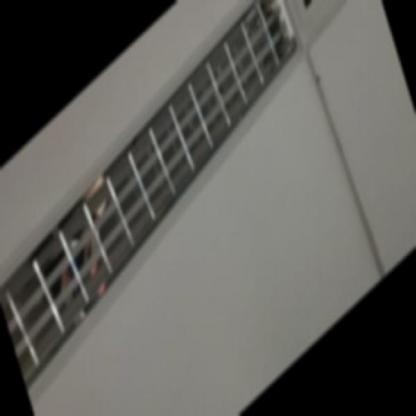light_off: (0, 0, 325, 398)
